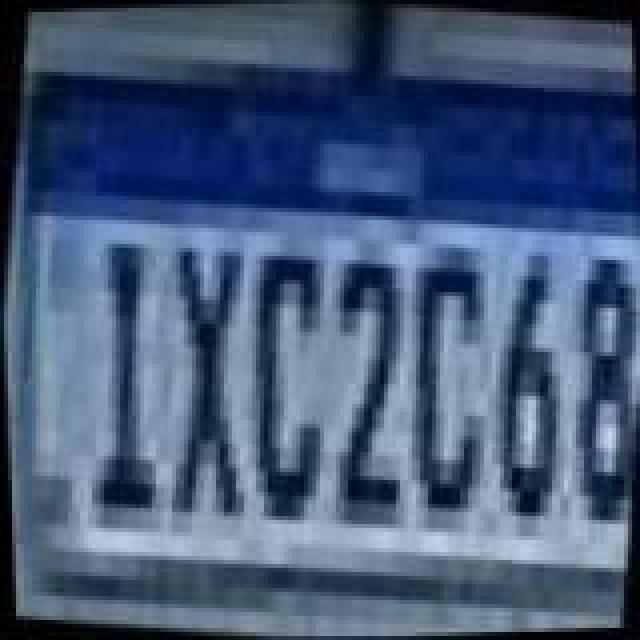2: (308, 244, 428, 532)
6: (468, 230, 580, 530)
8: (544, 240, 640, 532)
C: (228, 240, 348, 528), (388, 234, 508, 522)
I: (74, 216, 190, 524)
X: (144, 226, 280, 530)
